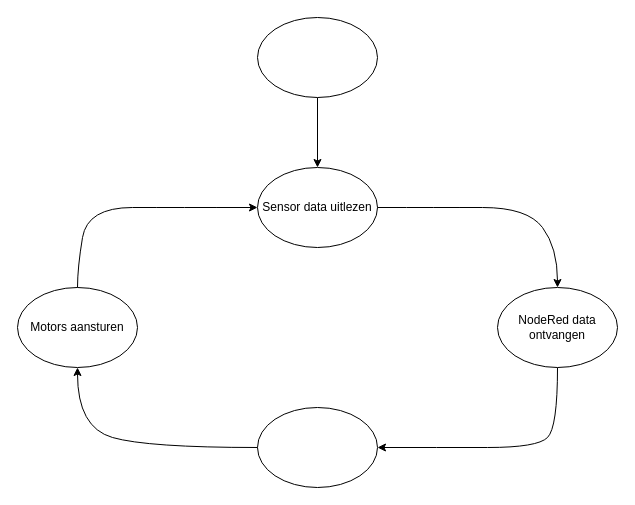
This 635x505 diagram has some shape labels left out. Each missing label, with the centre of its shape:
"Richting/snelheid bepalen voor motors" belongs at point (317, 447).
"Setup/start" belongs at point (317, 57).
